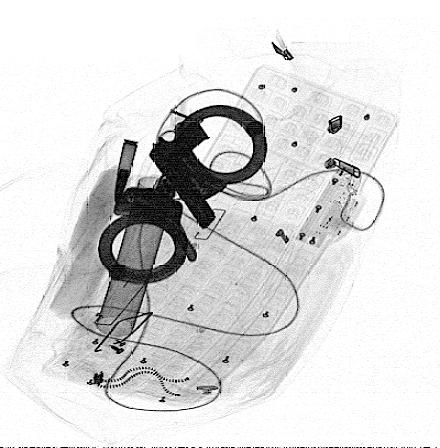Bullet: (114, 139, 140, 209)
Gun: (149, 117, 217, 229)
HandCuffs: (95, 105, 272, 283)
